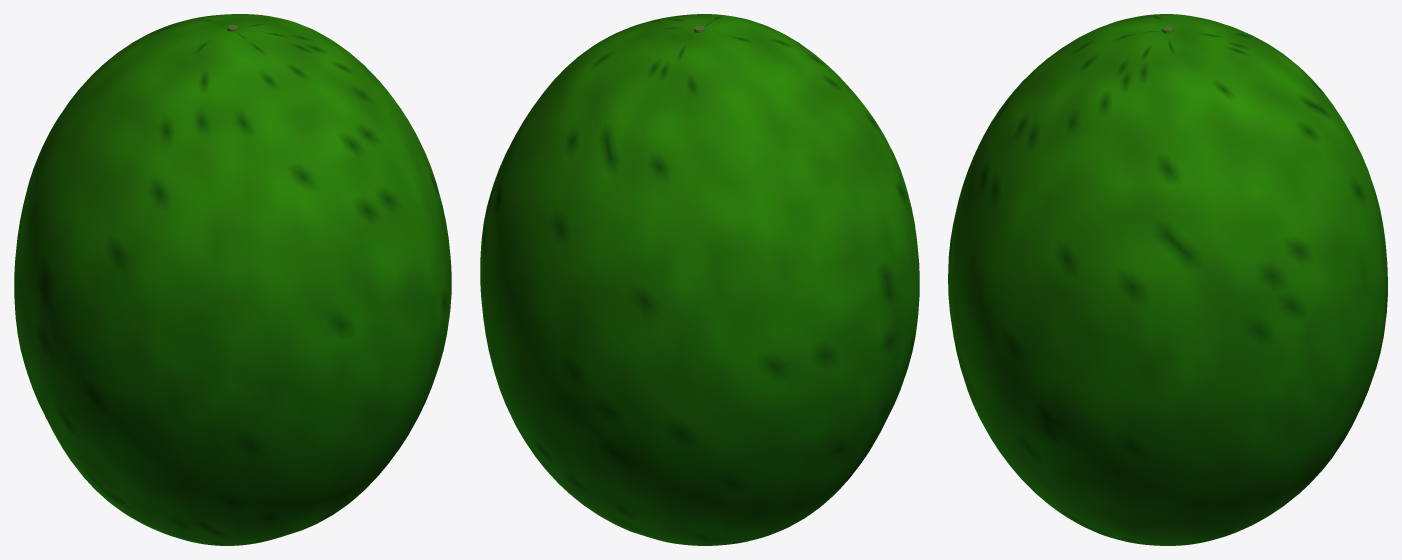
The model's file is citron-vert.glb.
The picture shows the model from 3 angles, left to right: view 1: azimuth 30°, elevation 25°; view 2: azimuth 150°, elevation 25°; view 3: azimuth 270°, elevation 25°; orthographic projection.
Parts seen in each view (by area): view 1: entier_peau, moitie_B_peau, moitie_A_peau; view 2: entier_peau, moitie_A_peau, moitie_B_peau; view 3: entier_peau, moitie_B_peau, moitie_A_peau.
Boxes of the visible parts, x1=… form: entier_peau: x1=14, y1=14, x2=451, y2=545; moitie_B_peau: x1=43, y1=26, x2=451, y2=545; moitie_A_peau: x1=14, y1=14, x2=331, y2=496; entier_peau: x1=480, y1=14, x2=919, y2=545; moitie_A_peau: x1=490, y1=27, x2=889, y2=545; moitie_B_peau: x1=597, y1=14, x2=919, y2=493; entier_peau: x1=948, y1=14, x2=1387, y2=545; moitie_B_peau: x1=948, y1=14, x2=1167, y2=545; moitie_A_peau: x1=1168, y1=14, x2=1387, y2=545.
Size of the model in its own units: 1.6 by 2.01 by 1.6.
